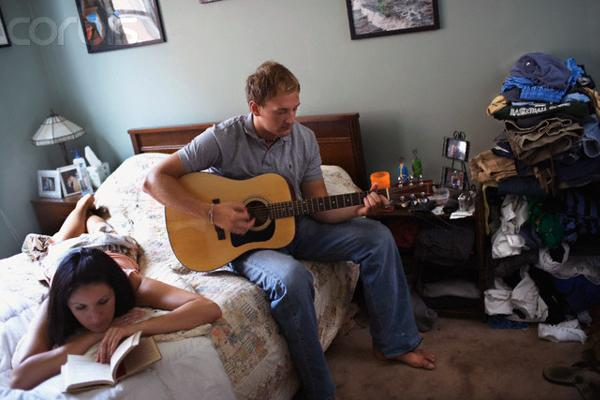person: (143, 61, 440, 399)
